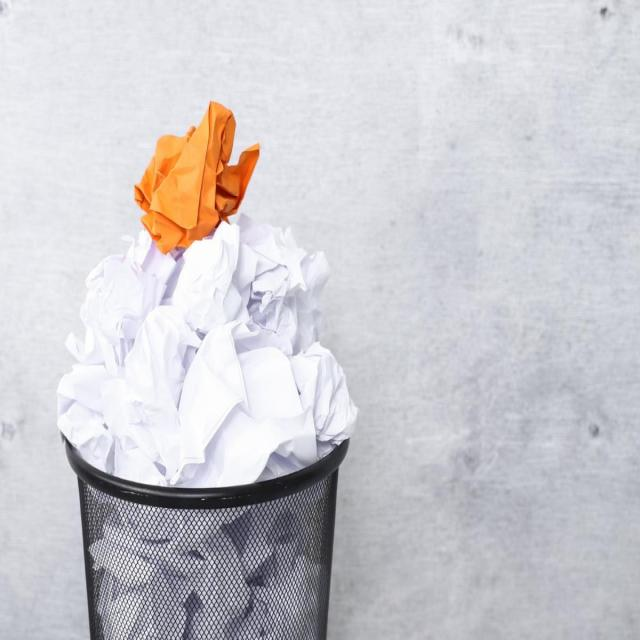PaperCardboard: (59, 105, 357, 496)
